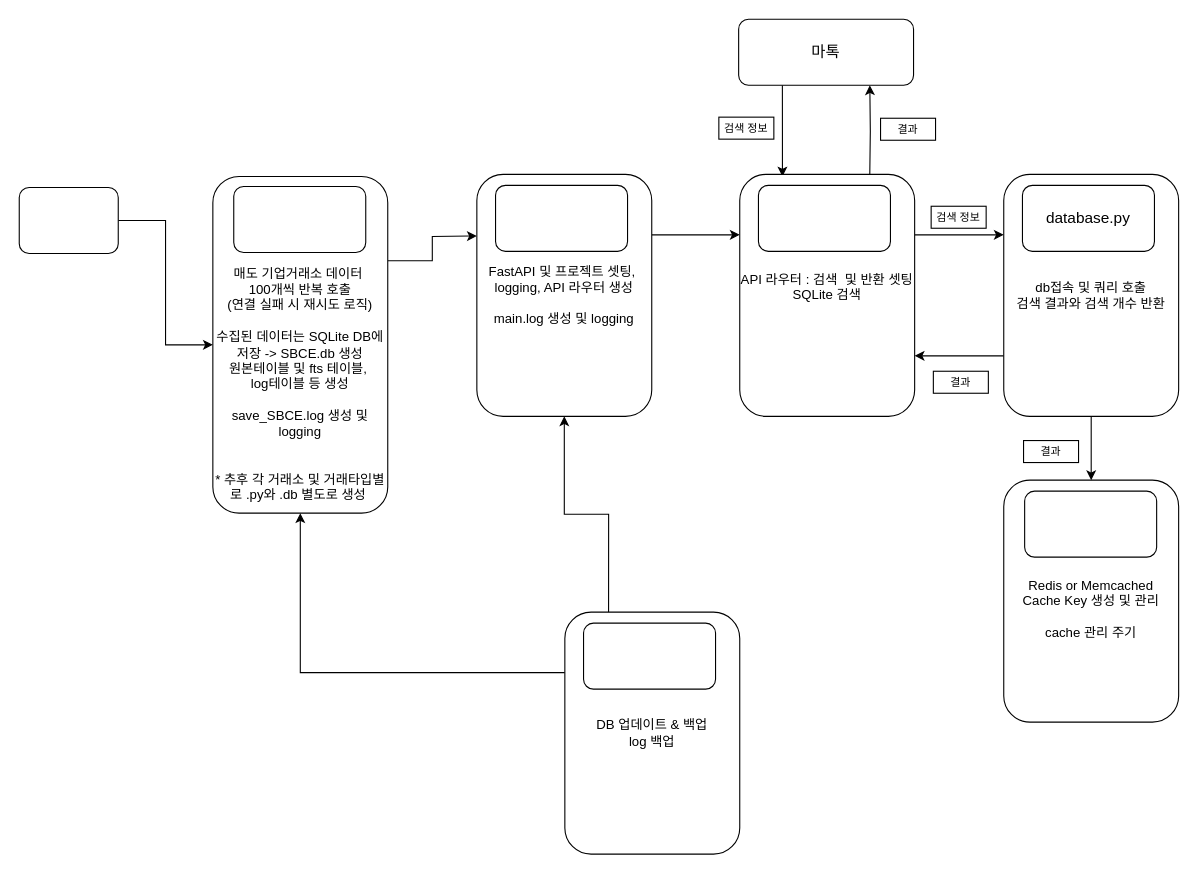
This 1198x873 diagram has some shape labels left out. Each missing label, with the centre of its shape:
API Script (save_SBCE.py): [299,218]
Caching: [1090,523]
Cron job: [649,655]
main.py: [561,217]
mna.py: [823,217]
마톡 DB API: [68,220]
